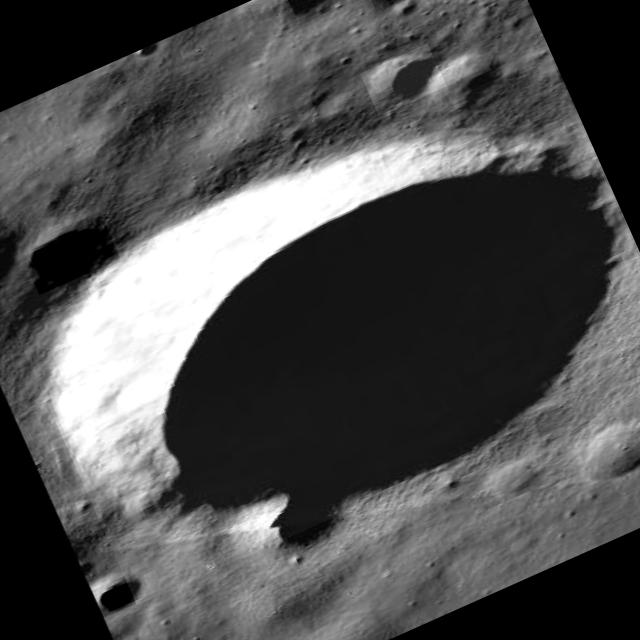crater: (0, 54, 640, 605), (18, 211, 121, 295), (426, 41, 514, 115), (360, 44, 447, 116), (90, 570, 148, 618), (363, 0, 439, 13)
